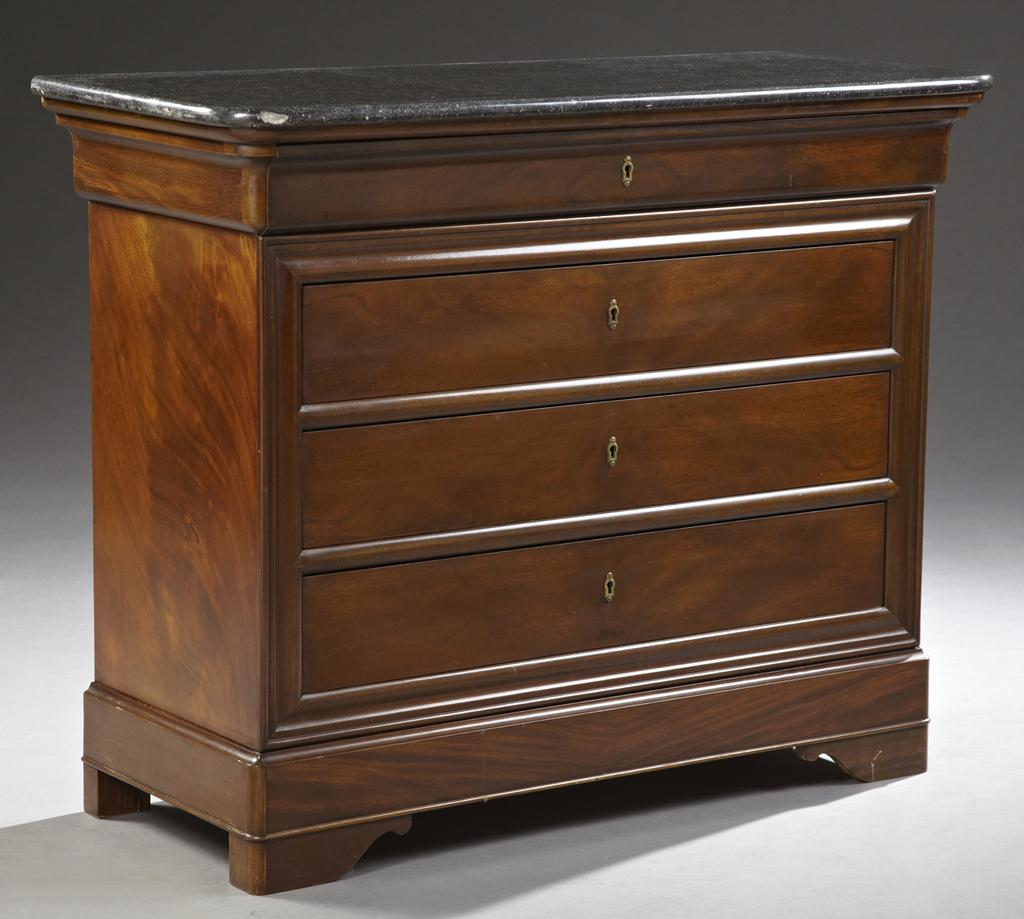cabinet_door: (300, 354, 894, 482), (308, 496, 884, 612), (302, 244, 892, 351), (295, 152, 925, 199)
